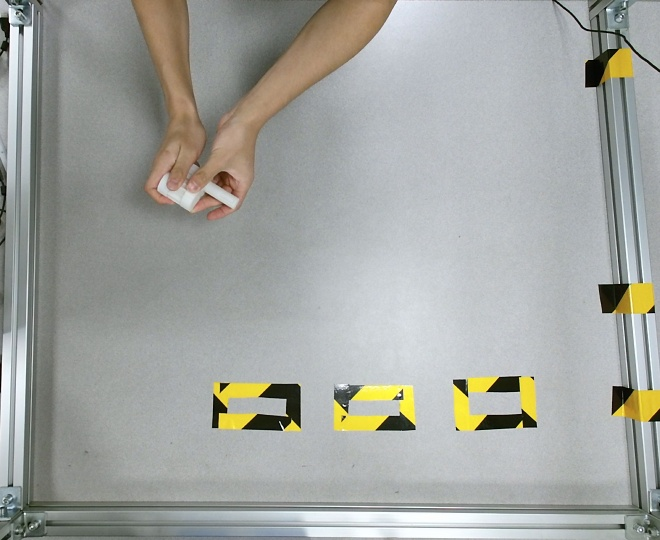stage_4: (157, 161, 238, 211)
